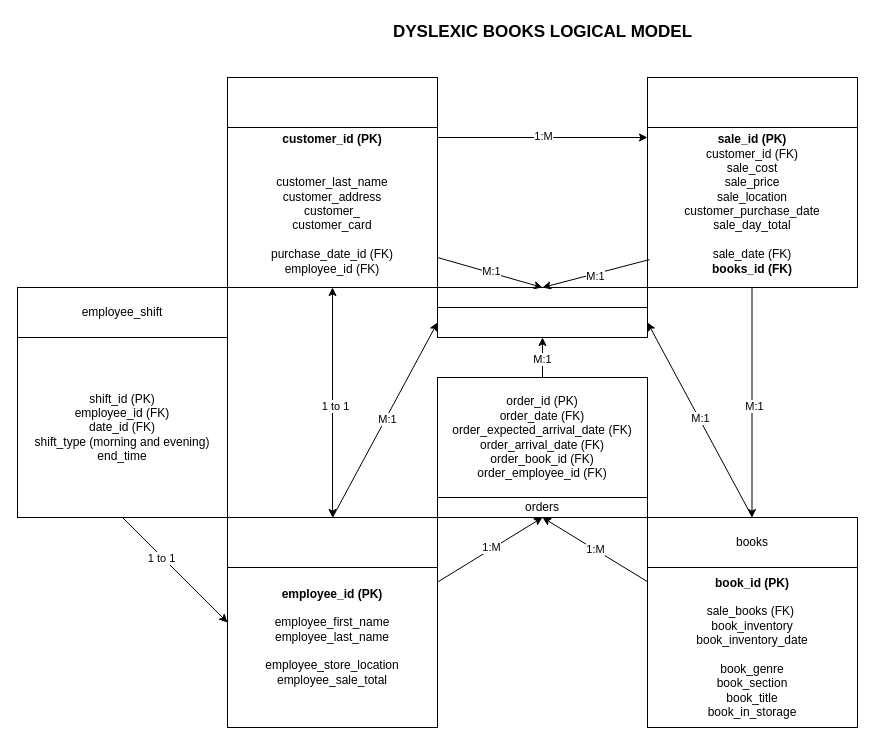
Some shapes in this 875 by 745 pixel diagram are drawn without their labels. The shapes that lost their labels are listed below. From the top down, each one's centre as x and y in pixels, then its label:
(x=332, y=102): customer
(x=752, y=102): sales
(x=542, y=297): date
(x=542, y=322): date_id (PK)
(x=332, y=542): employees
